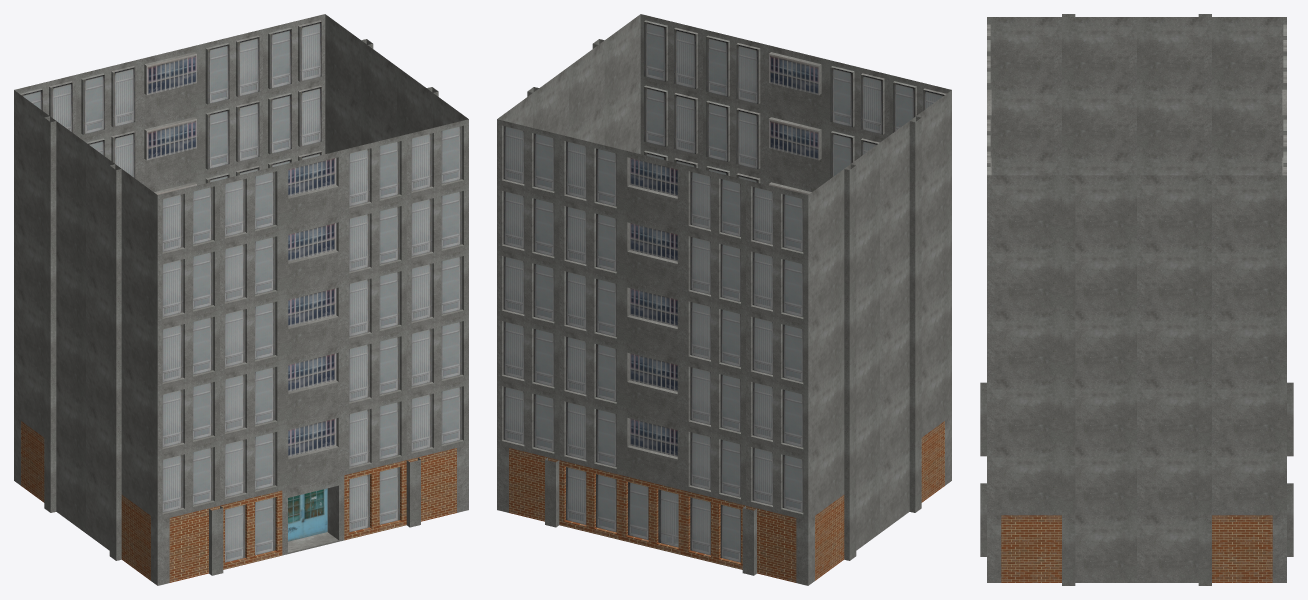
The model's file is building_2.fbx.
3 renders of one model, left to right at view 1: azimuth 30°, elevation 25°; view 2: azimuth 150°, elevation 25°; view 3: azimuth 270°, elevation 25°, orthographic. The views are drawn at different scales.
Parts seen in each view (by area): view 1: building_1; view 2: building_1; view 3: building_1.
Boxes of the visible parts, left/top/right/bottom form: building_1: left=14, top=14, right=468, bottom=585; building_1: left=497, top=14, right=951, bottom=585; building_1: left=980, top=14, right=1293, bottom=585.
Size of the model in its own units: 1709 by 1980 by 1379.
